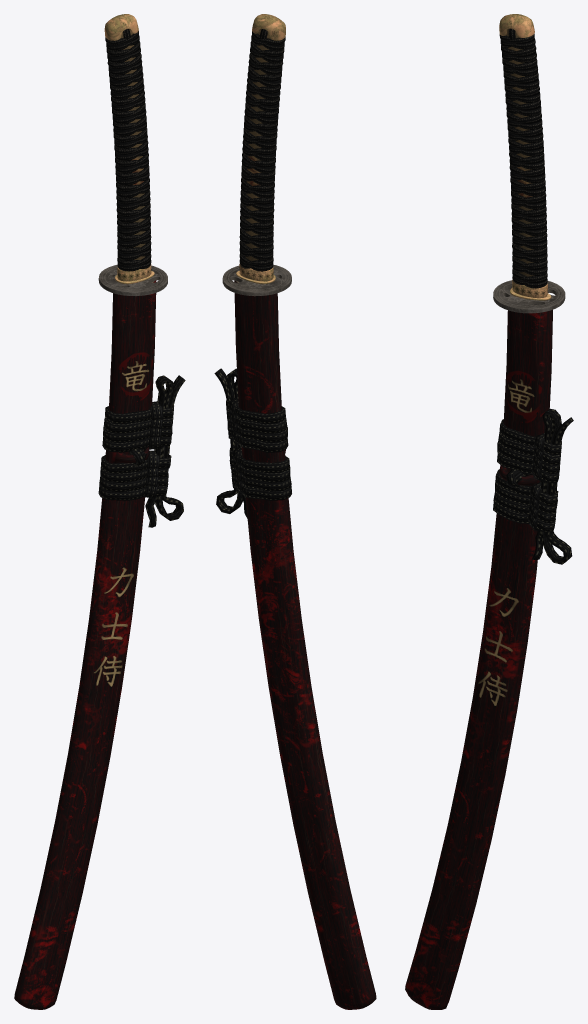
Rendered from Katana_export.obj.
3 renders of one model, left to right at view 1: azimuth 30°, elevation 25°; view 2: azimuth 150°, elevation 25°; view 3: azimuth 330°, elevation 25°, orthographic. The views are drawn at different scales.
Parts seen in each view (by area): view 1: Katana_scabbard, Katana_blade; view 2: Katana_scabbard, Katana_blade; view 3: Katana_scabbard, Katana_blade.
Part boxes in pixels (x1=…): Katana_scabbard: x1=14, y1=280, x2=185, y2=1009; Katana_blade: x1=98, y1=14, x2=167, y2=296; Katana_scabbard: x1=214, y1=280, x2=376, y2=1009; Katana_blade: x1=222, y1=14, x2=291, y2=296; Katana_scabbard: x1=405, y1=304, x2=573, y2=1009; Katana_blade: x1=493, y1=14, x2=565, y2=313.
Bounding box in the file's own units: 0.1918 × 1.09 × 0.0706.
